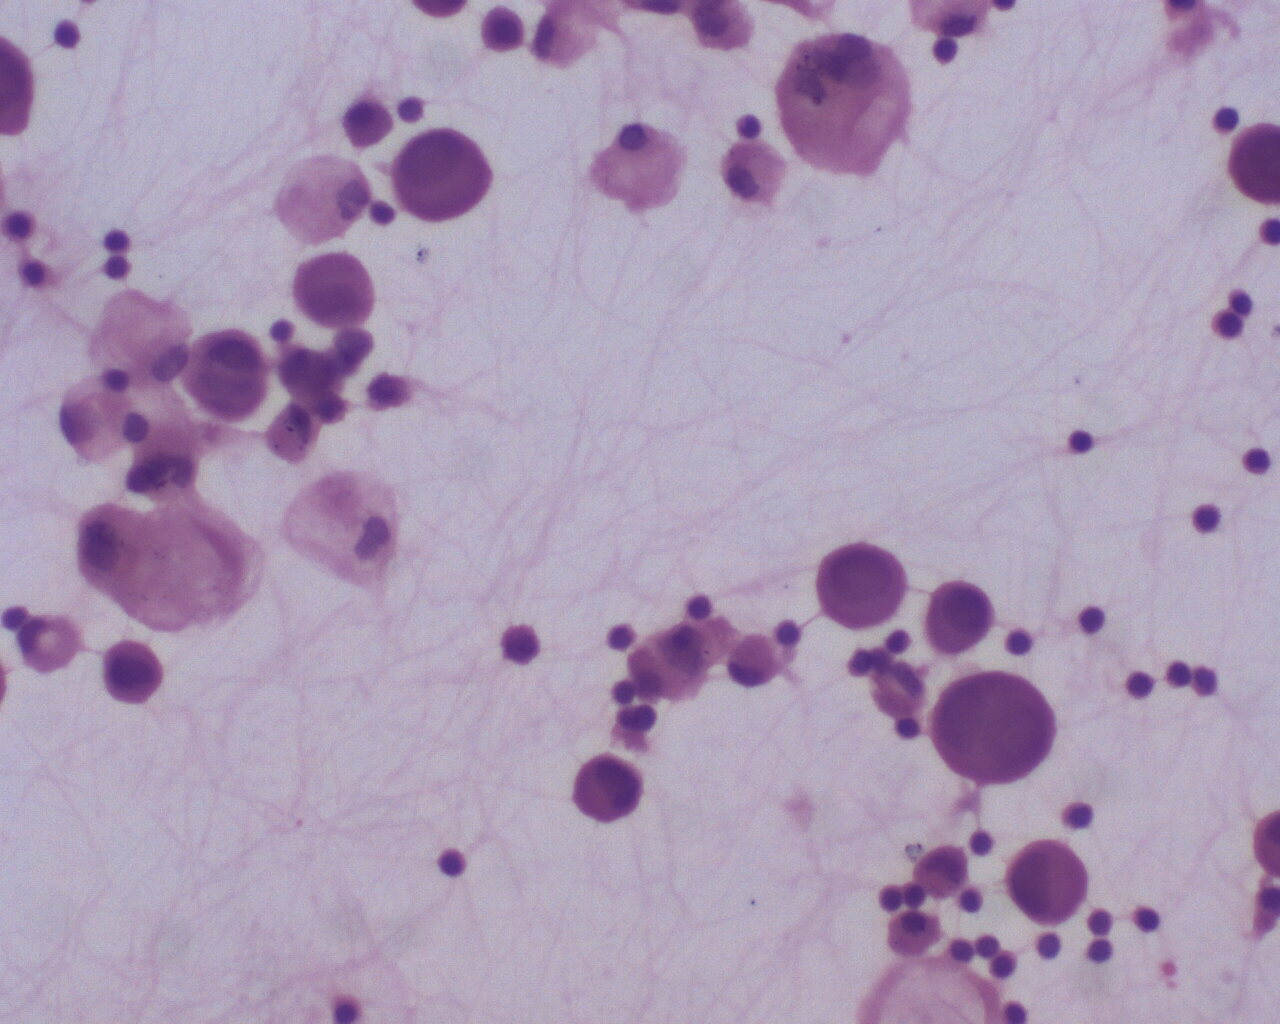ab: (932, 669, 1065, 785), (393, 126, 494, 225), (1002, 833, 1091, 930), (812, 541, 907, 630), (918, 572, 1002, 661), (565, 751, 650, 836)
lymph: (430, 841, 476, 886), (1185, 496, 1226, 545), (49, 11, 87, 52), (1209, 99, 1251, 135), (1078, 599, 1115, 637), (1063, 421, 1098, 460)
meso: (94, 633, 165, 709), (720, 138, 790, 206)
